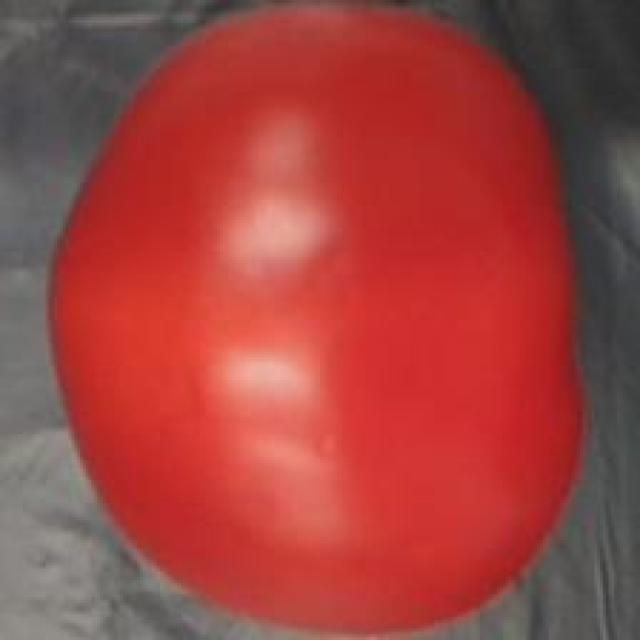ripe tomato: (40, 0, 589, 640)
